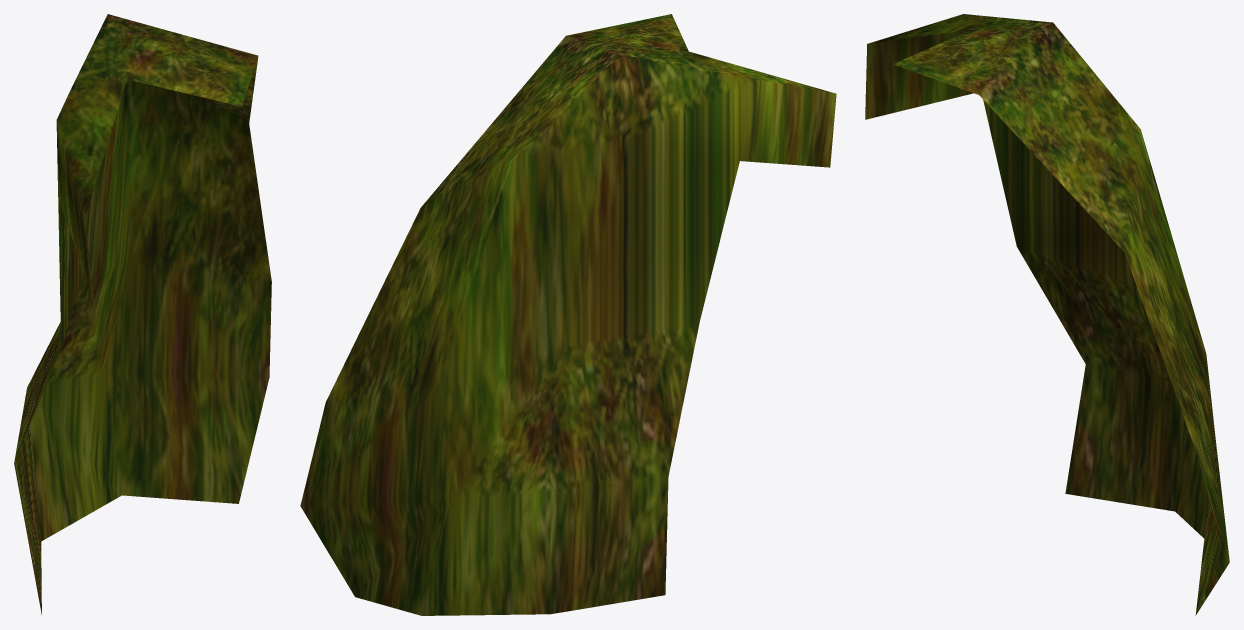
Rendered from TROLLHOLE02_RM_PSURF194.fbx.
3 views of the same model, side by side, from view 1: azimuth 30°, elevation 25°; view 2: azimuth 150°, elevation 25°; view 3: azimuth 270°, elevation 25° (orthographic). The views are drawn at different scales.
Parts seen in each view (by area): view 1: TROLLHOLE02_RM_PSURF194; view 2: TROLLHOLE02_RM_PSURF194; view 3: TROLLHOLE02_RM_PSURF194.
Boxes of the visible parts, box(x1,y1,x2,y2) form: TROLLHOLE02_RM_PSURF194: box(14, 14, 271, 614); TROLLHOLE02_RM_PSURF194: box(300, 14, 836, 615); TROLLHOLE02_RM_PSURF194: box(865, 14, 1229, 615).
Bounding box in the file's own units: 32992 × 48037 × 31420.
Materials: 1 (1 with a texture image).
